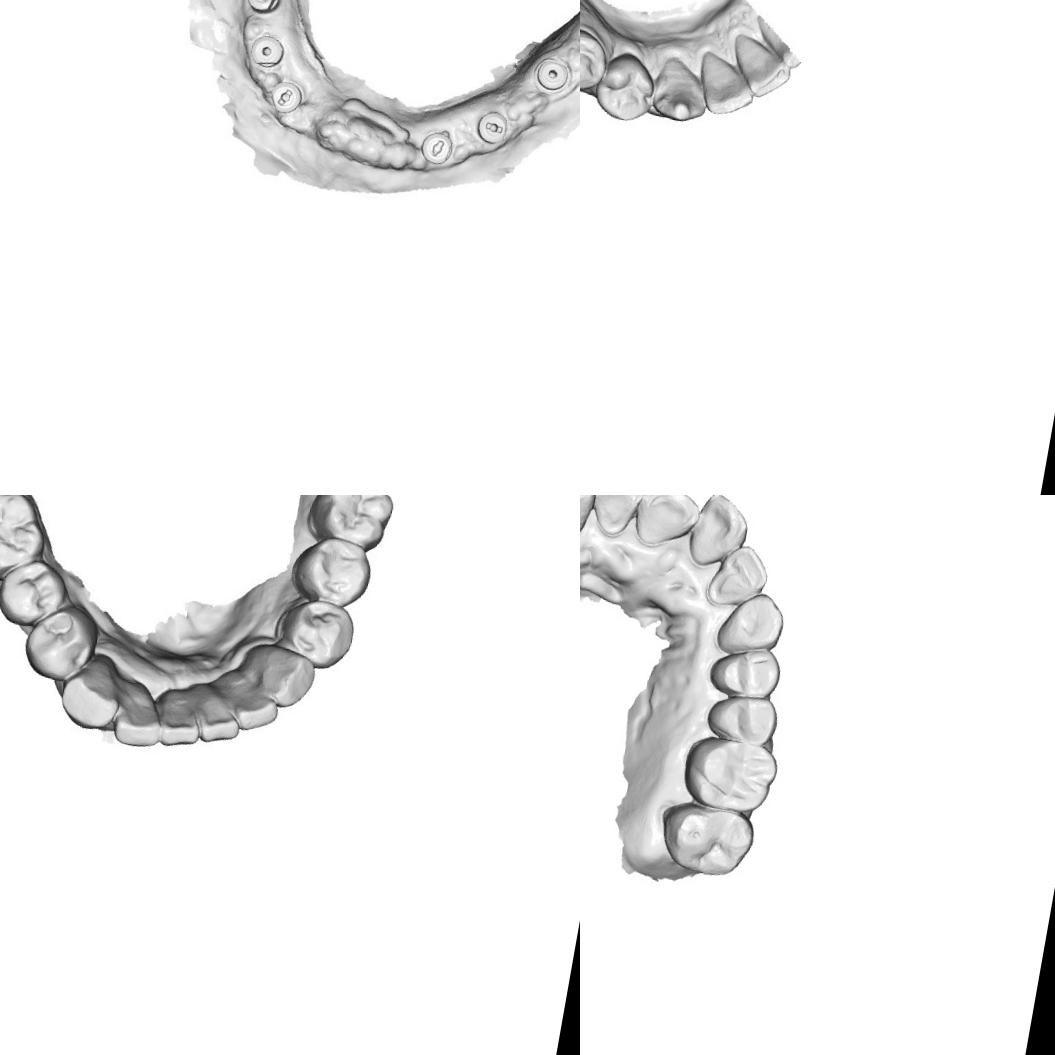canine: (712, 584, 789, 662), (236, 638, 318, 711), (57, 654, 128, 734), (650, 55, 720, 130)
implant: (244, 30, 288, 70), (534, 56, 574, 94)
implant_minus: (262, 79, 310, 119), (416, 127, 456, 168), (474, 108, 514, 146), (243, 0, 287, 16)
incisor: (683, 495, 753, 573), (704, 538, 773, 612), (214, 670, 285, 738), (108, 674, 169, 750), (628, 495, 706, 553), (698, 46, 762, 116), (728, 32, 794, 97), (149, 686, 208, 752), (184, 684, 244, 748), (586, 495, 647, 540)
molar: (676, 729, 782, 820), (652, 796, 759, 884), (307, 495, 400, 558), (0, 495, 48, 577)
premolar: (286, 528, 382, 616), (272, 596, 362, 676), (20, 599, 95, 683), (702, 638, 784, 706), (592, 45, 659, 126), (702, 685, 784, 750), (0, 553, 62, 627), (580, 24, 611, 96)
